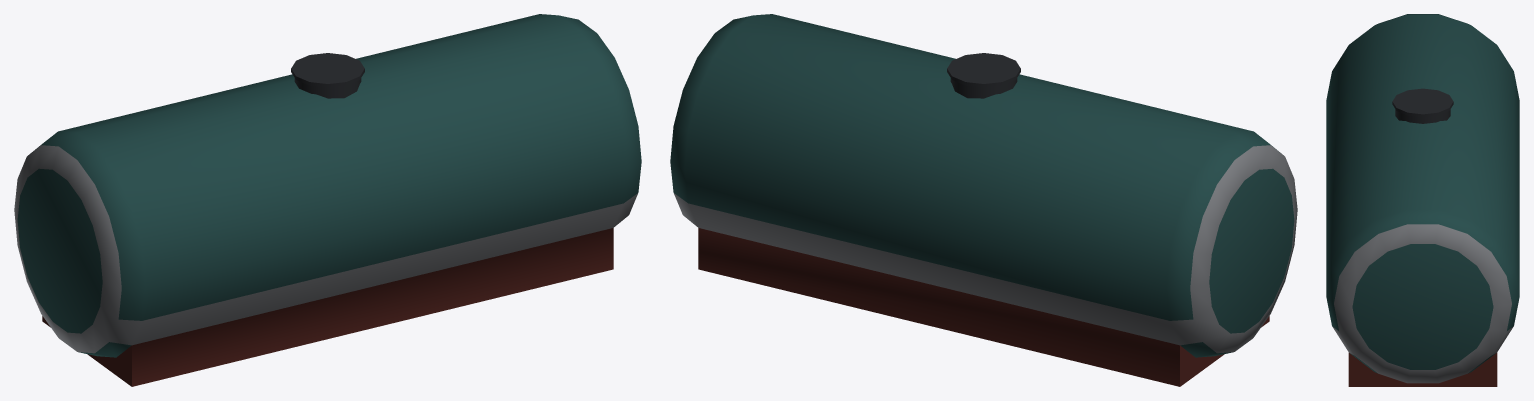
File: WaterCistern_2.fbx
3 views of the same model, side by side, from view 1: azimuth 30°, elevation 25°; view 2: azimuth 150°, elevation 25°; view 3: azimuth 270°, elevation 25° (orthographic). The views are drawn at different scales.
Visible parts, largest first — view 1: WaterCistern_2; view 2: WaterCistern_2; view 3: WaterCistern_2.
Part boxes in pixels (x1,y1,x2,y2): WaterCistern_2: [14, 14, 641, 386]; WaterCistern_2: [670, 14, 1297, 386]; WaterCistern_2: [1326, 14, 1519, 386].
Bounding box in the file's own units: 718 × 291 × 271.
